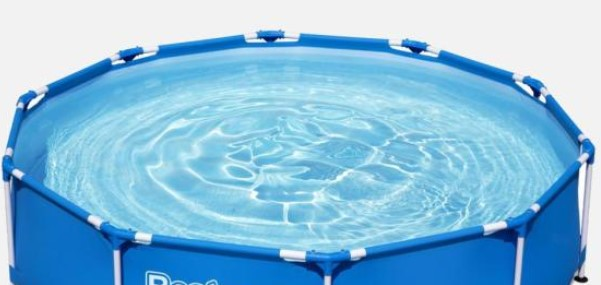havuz: (1, 29, 590, 285)
